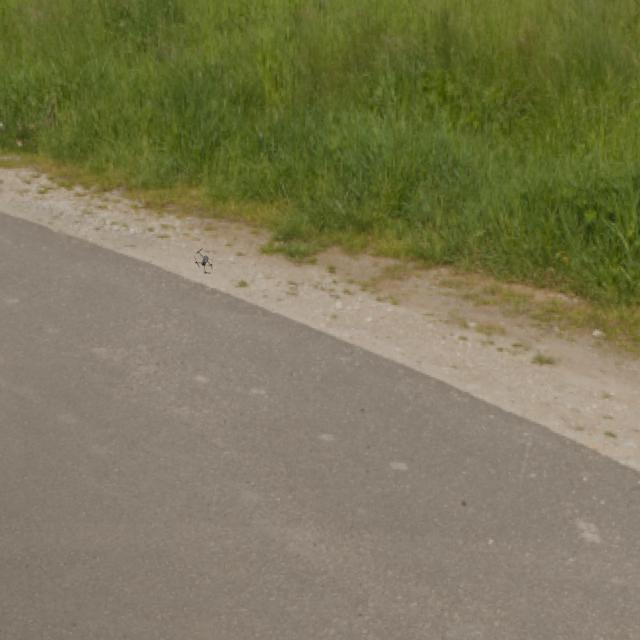Airaplan: (194, 248, 213, 274)
